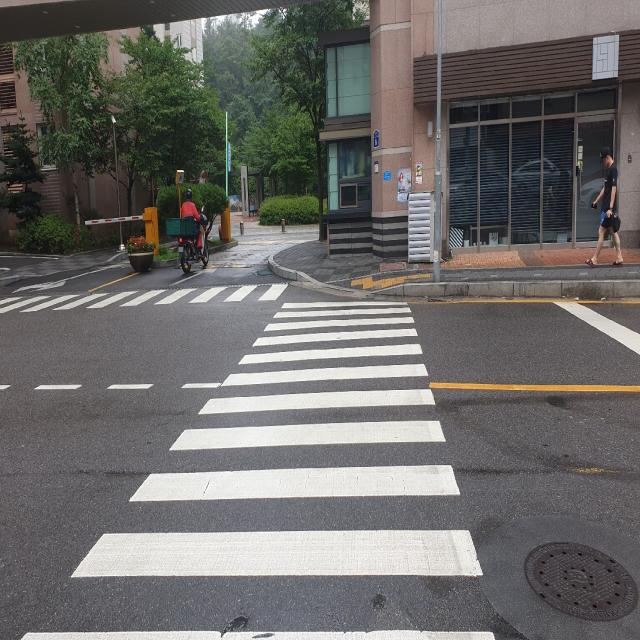횡단보도: (18, 298, 497, 640), (2, 286, 284, 306)
